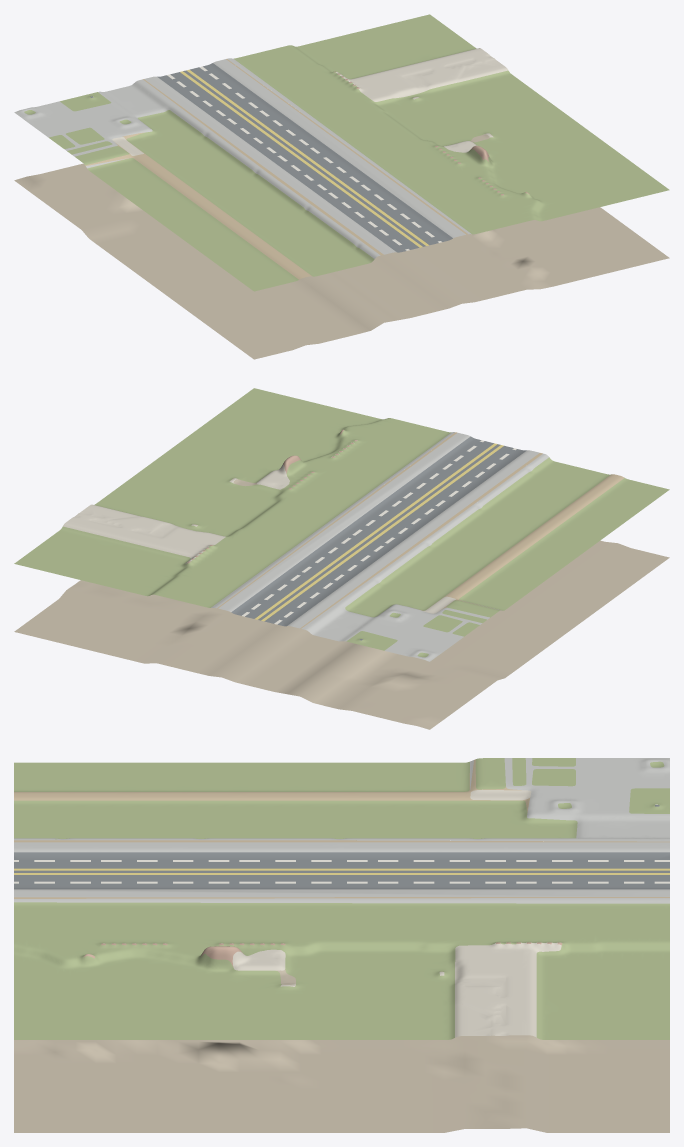
3 views of the same model, one above another, from view 1: azimuth 30°, elevation 25°; view 2: azimuth 150°, elevation 25°; view 3: azimuth 270°, elevation 25° (orthographic). The views are drawn at different scales.
Parts seen in each view (by area): view 1: s_-3_0__grass, s_-3_0__soil, s_-3_0__stone_paving, s_-3_0__asphalt, s_-3_0__paving, s_-3_0__timber_deck, s_-3_0__yellow_marking, s_-3_0__white_marking; view 2: s_-3_0__grass, s_-3_0__soil, s_-3_0__stone_paving, s_-3_0__asphalt, s_-3_0__paving, s_-3_0__timber_deck, s_-3_0__yellow_marking, s_-3_0__white_marking; view 3: s_-3_0__grass, s_-3_0__soil, s_-3_0__stone_paving, s_-3_0__asphalt, s_-3_0__paving, s_-3_0__timber_deck, s_-3_0__yellow_marking, s_-3_0__white_marking, s_-3_0__brick_paving.
Boxes of the visible parts, x1=… form: s_-3_0__grass: x1=24, y1=14, x2=669, y2=291; s_-3_0__soil: x1=14, y1=97, x2=669, y2=359; s_-3_0__stone_paving: x1=14, y1=58, x2=471, y2=258; s_-3_0__asphalt: x1=90, y1=63, x2=452, y2=252; s_-3_0__paving: x1=112, y1=48, x2=508, y2=155; s_-3_0__timber_deck: x1=85, y1=59, x2=467, y2=279; s_-3_0__yellow_marking: x1=180, y1=69, x2=428, y2=247; s_-3_0__white_marking: x1=167, y1=66, x2=441, y2=250; s_-3_0__grass: x1=14, y1=388, x2=669, y2=657; s_-3_0__soil: x1=14, y1=478, x2=669, y2=729; s_-3_0__stone_paving: x1=211, y1=432, x2=548, y2=661; s_-3_0__asphalt: x1=231, y1=436, x2=526, y2=640; s_-3_0__paving: x1=63, y1=464, x2=455, y2=613; s_-3_0__timber_deck: x1=217, y1=432, x2=624, y2=628; s_-3_0__yellow_marking: x1=255, y1=443, x2=503, y2=621; s_-3_0__white_marking: x1=242, y1=440, x2=516, y2=624; s_-3_0__grass: x1=14, y1=758, x2=669, y2=1039; s_-3_0__soil: x1=14, y1=942, x2=669, y2=1132; s_-3_0__stone_paving: x1=14, y1=758, x2=669, y2=903; s_-3_0__asphalt: x1=14, y1=805, x2=669, y2=889; s_-3_0__paving: x1=232, y1=790, x2=561, y2=1037; s_-3_0__timber_deck: x1=14, y1=759, x2=669, y2=898; s_-3_0__yellow_marking: x1=14, y1=868, x2=669, y2=874; s_-3_0__white_marking: x1=14, y1=860, x2=669, y2=883; s_-3_0__brick_paving: x1=83, y1=942, x2=562, y2=966.
Size of the model in its own units: 128 by 23.96 by 128.
